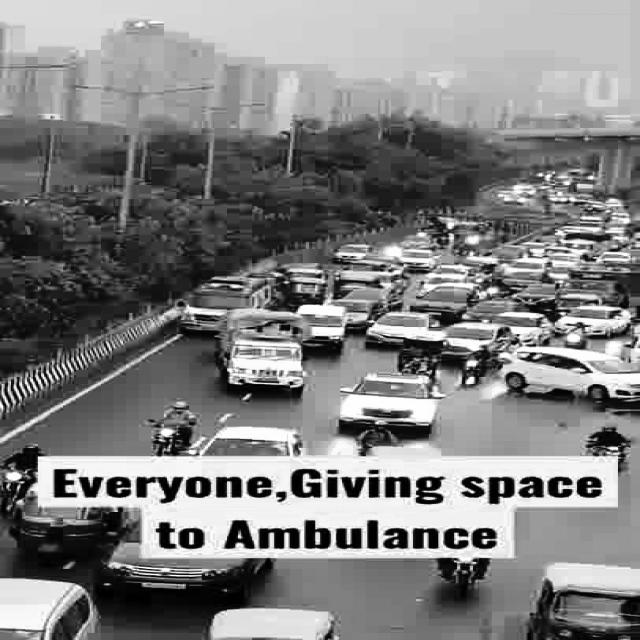Ambulance: (177, 271, 275, 332)
